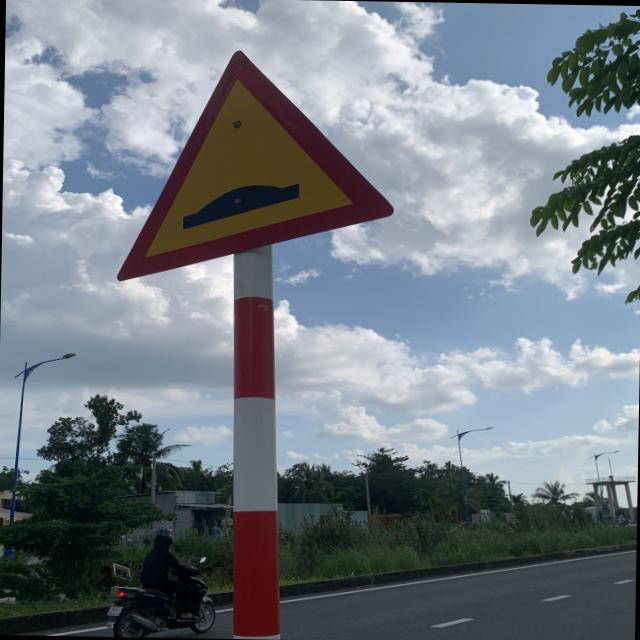Duong_Cong_Ben_Phai: (114, 44, 395, 287)
